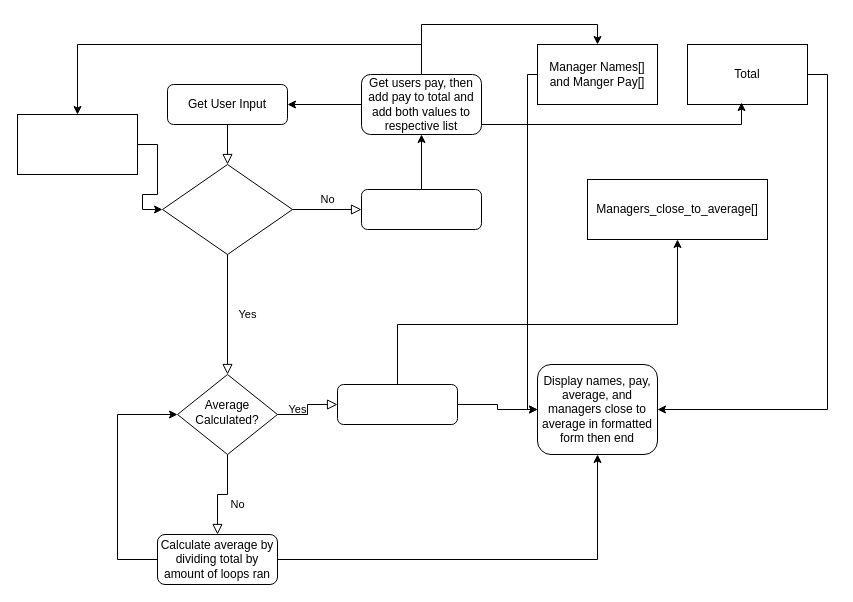
Some shapes in this 853 by 602 pixel diagram are drawn without their labels. The box of each missing label's shape, as (x1, y1, x2, y2) in pixels:
Add 1 to loop counter and recheck for condition: (16, 114, 138, 174)
Check for managers close to average pay: (336, 384, 458, 424)
Did User want to quit?: (162, 164, 292, 254)
Get Users name: (360, 188, 482, 230)
